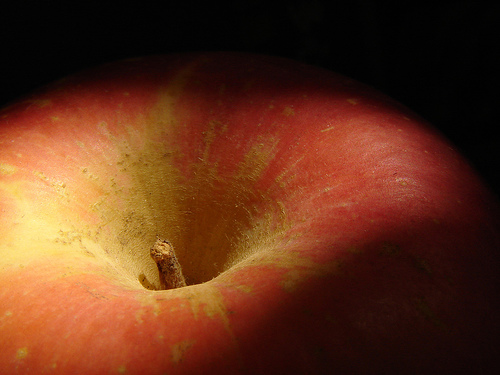apple: (0, 44, 498, 374)
